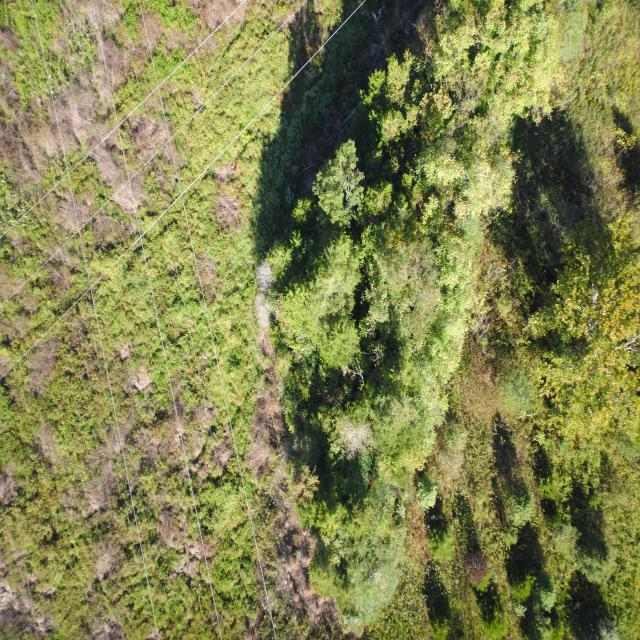Area of Interest: (278, 11, 562, 612)
